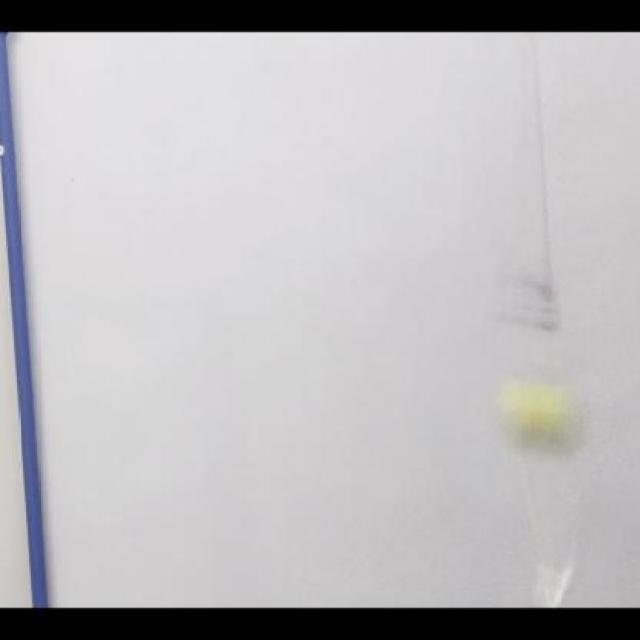baseball: (496, 378, 586, 460)
